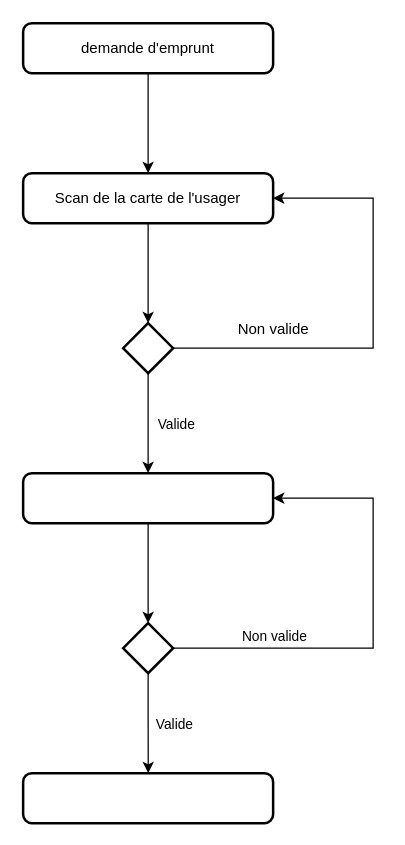
This 405x845 diagram has some shape labels left out. Each missing label, with the centre of its shape:
"Génération de la fiche d'emprunt" belongs at point (147, 797).
"Saisie de la référence de la ressource" belongs at point (147, 497).
